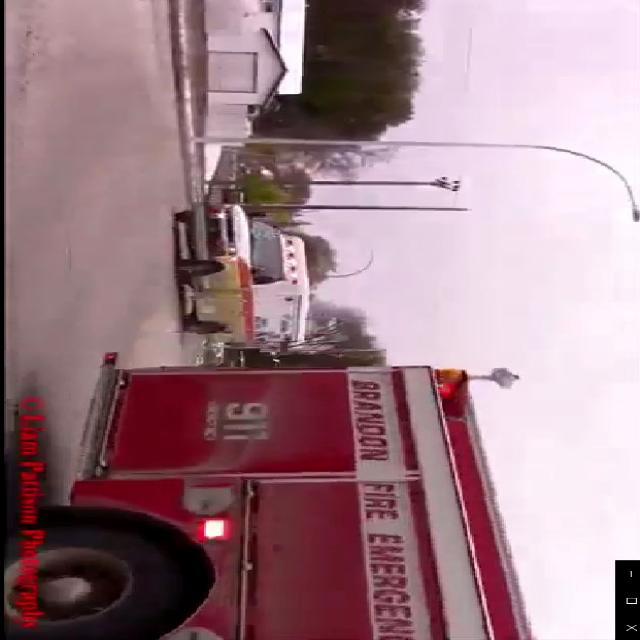emergency: (0, 352, 540, 640), (160, 196, 320, 358)
